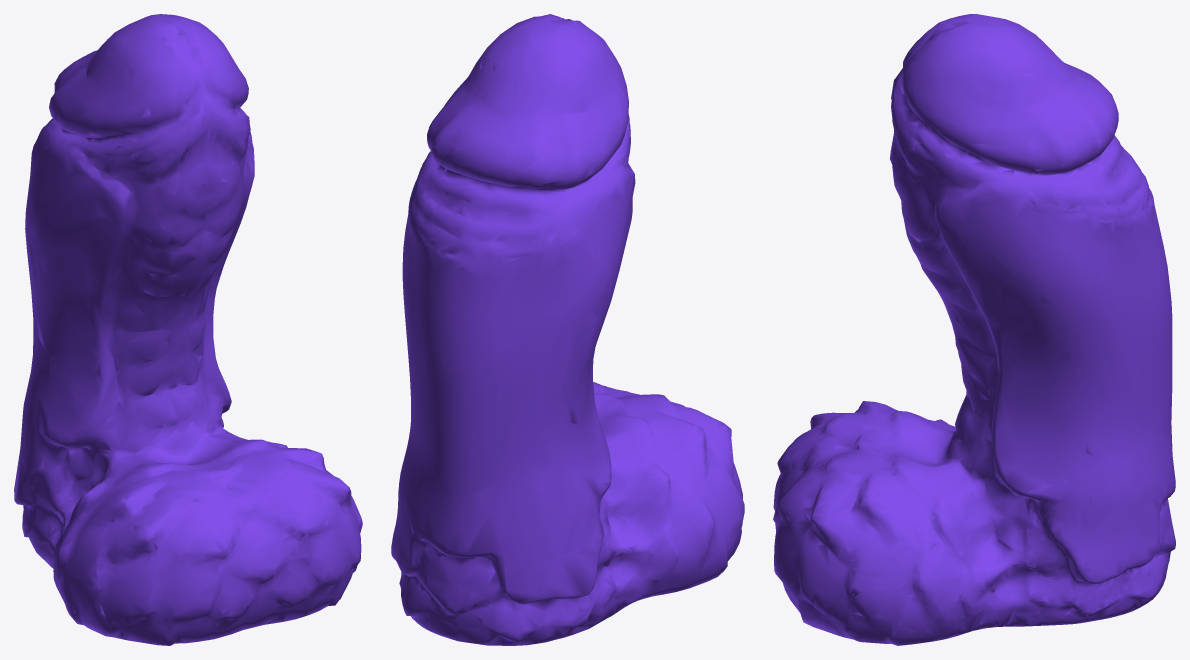
Rendered from small-flat-ar.glb.
3 renders of one model, left to right at view 1: azimuth 30°, elevation 25°; view 2: azimuth 150°, elevation 25°; view 3: azimuth 270°, elevation 25°, orthographic. The views are drawn at different scales.
Size of the model in its own units: 0.0798 by 0.149 by 0.0971.
